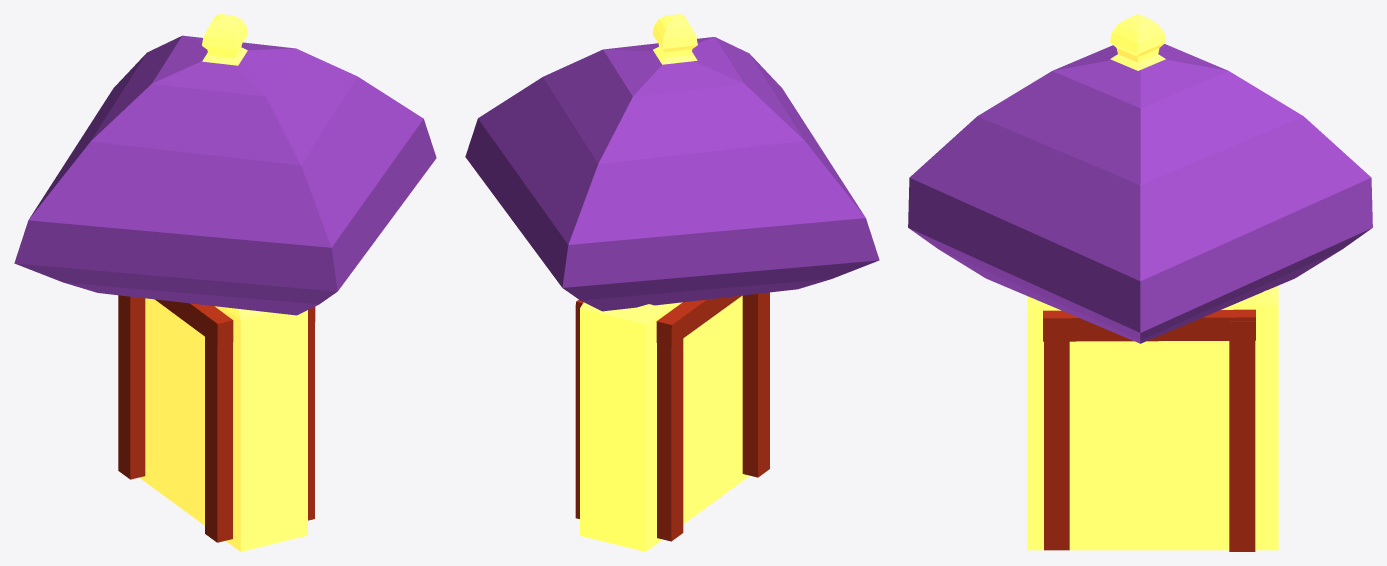
Rendered from Door.fbx.
3 views of the same model, side by side, from view 1: azimuth 30°, elevation 25°; view 2: azimuth 150°, elevation 25°; view 3: azimuth 270°, elevation 25° (orthographic). The views are drawn at different scales.
Parts seen in each view (by area): view 1: DoorFrame; view 2: DoorFrame; view 3: DoorFrame.
Boxes of the visible parts, x1,y1,x2,y2 form: DoorFrame: (14,14,436,551); DoorFrame: (465,14,879,551); DoorFrame: (908,14,1372,551).
Bounding box in the file's own units: 683 × 756 × 615.
